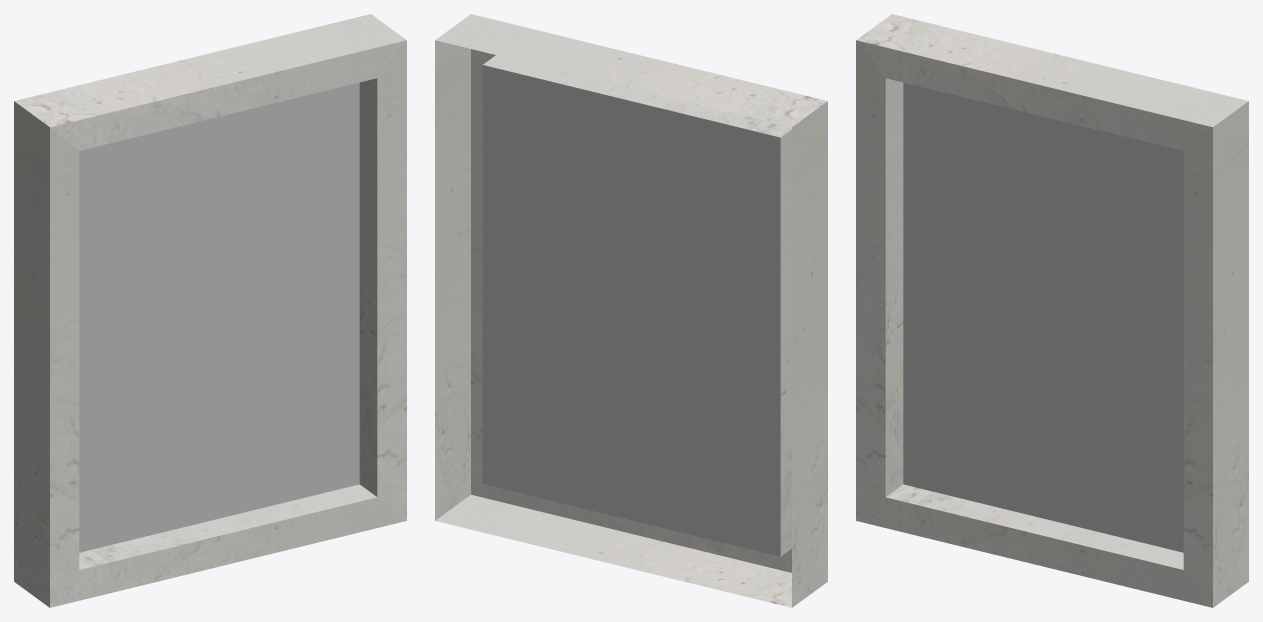
File: window 4.FBX
3 renders of one model, left to right at view 1: azimuth 30°, elevation 25°; view 2: azimuth 150°, elevation 25°; view 3: azimuth 330°, elevation 25°, orthographic.
Visible parts, largest first — view 1: window002; view 2: window002; view 3: window002.
Part boxes in pixels (x1=…): window002: x1=14, y1=14, x2=406, y2=607; window002: x1=435, y1=14, x2=827, y2=607; window002: x1=856, y1=14, x2=1248, y2=607.
Bounding box in the file's own units: 0.9709 × 1.25 × 0.1688.
